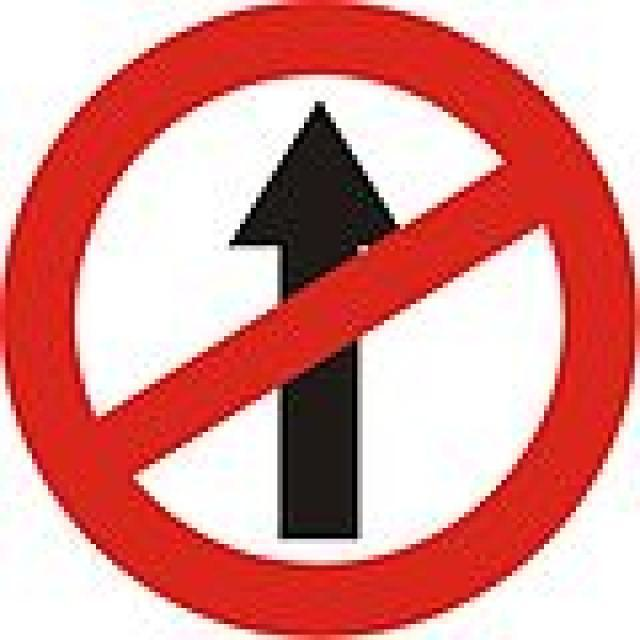No entry: (0, 5, 640, 640)
